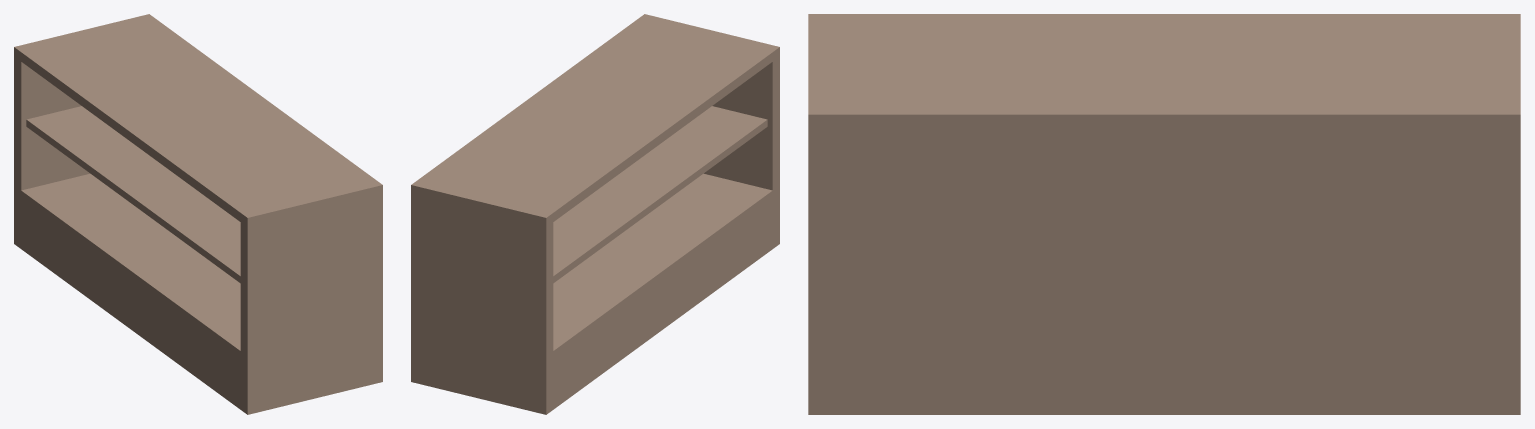
File: DisplayShelf.fbx
3 renders of one model, left to right at view 1: azimuth 30°, elevation 25°; view 2: azimuth 150°, elevation 25°; view 3: azimuth 270°, elevation 25°, orthographic. The views are drawn at different scales.
Parts seen in each view (by area): view 1: pCube308; view 2: pCube308; view 3: pCube308.
Part boxes in pixels (left/top/right/bottom): pCube308: left=14, top=14, right=382, bottom=414; pCube308: left=411, top=14, right=779, bottom=414; pCube308: left=808, top=14, right=1520, bottom=414.
Bounding box in the file's own units: 100 × 139 × 299.
